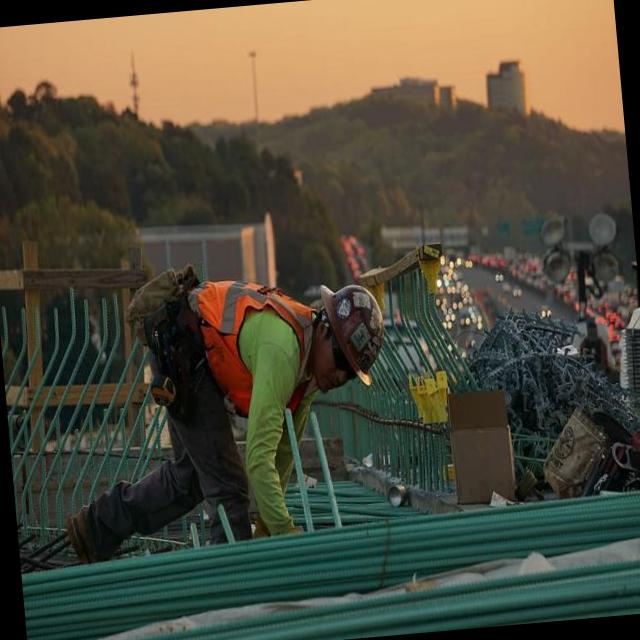Helmet: (312, 262, 393, 391)
Vest: (190, 252, 314, 428)
